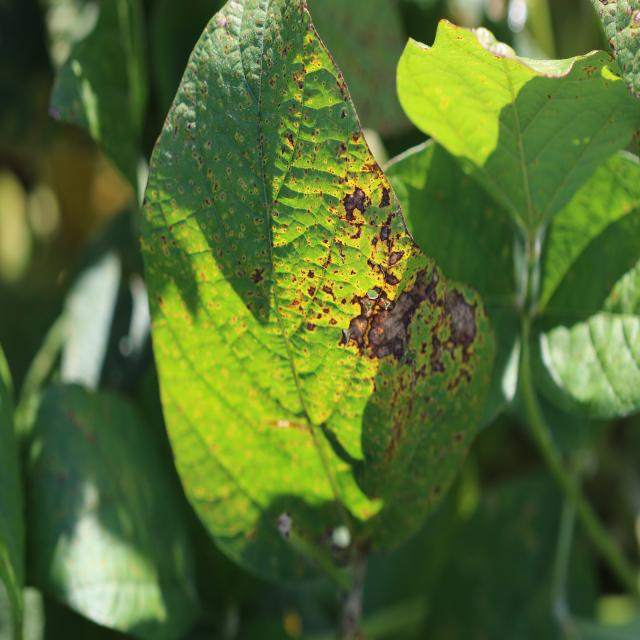Bacterial_Blight: (356, 283, 423, 368), (450, 285, 480, 373), (296, 273, 339, 326), (370, 218, 406, 276), (344, 188, 376, 214), (330, 102, 351, 138), (248, 255, 267, 292), (382, 460, 410, 484), (389, 408, 415, 433), (379, 180, 395, 213), (286, 132, 307, 149), (274, 44, 291, 63), (302, 83, 318, 99), (322, 201, 331, 222)
Soybean: (137, 0, 497, 640)
